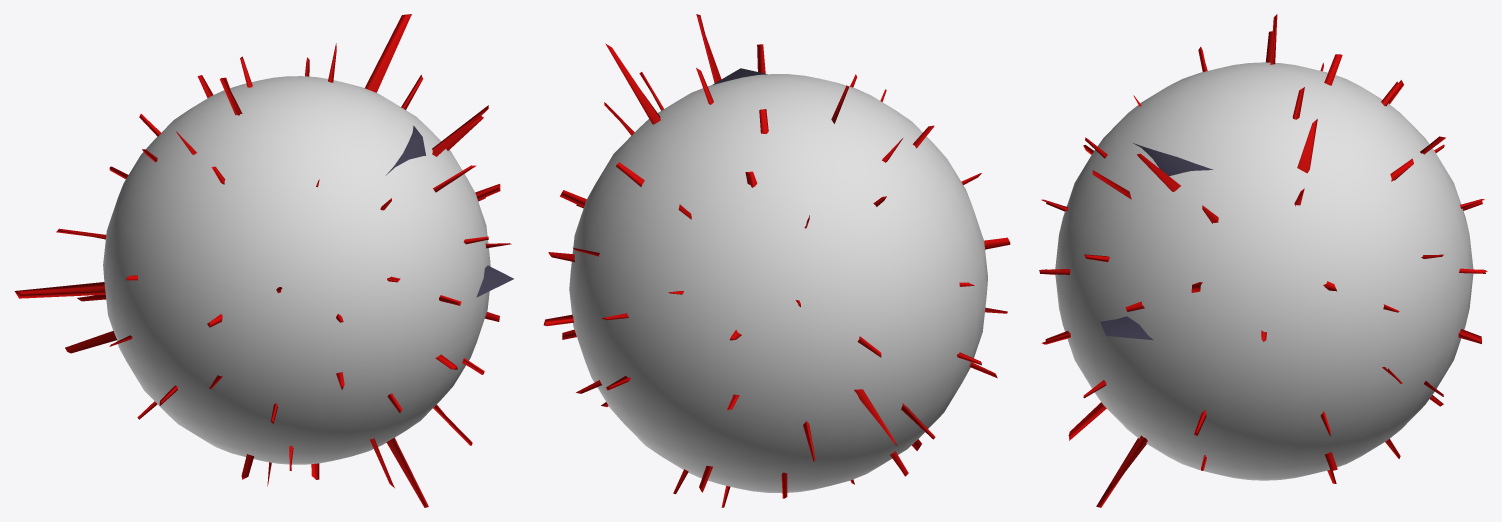
The model's file is Urchin.glb.
3 views of the same model, side by side, from view 1: azimuth 30°, elevation 25°; view 2: azimuth 150°, elevation 25°; view 3: azimuth 270°, elevation 25° (orthographic). The views are drawn at different scales.
Parts seen in each view (by area): view 1: Sphere, Icosphere, Cylinder; view 2: Sphere, Icosphere; view 3: Sphere, Icosphere, Cylinder.
Boxes of the visible parts, x1,y1,x2,y2 form: Sphere: (103, 76, 490, 464); Icosphere: (14, 14, 511, 507); Cylinder: (386, 125, 513, 297); Sphere: (569, 74, 987, 492); Icosphere: (543, 14, 1010, 507); Sphere: (1055, 62, 1473, 480); Icosphere: (1039, 14, 1487, 507); Cylinder: (1100, 143, 1213, 340).
Size of the model in its own units: 4.78 by 4.77 by 4.5.
